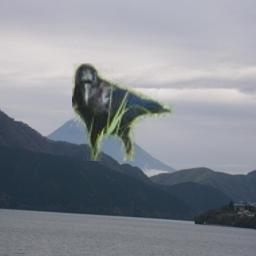Crow: (72, 63, 174, 161)
